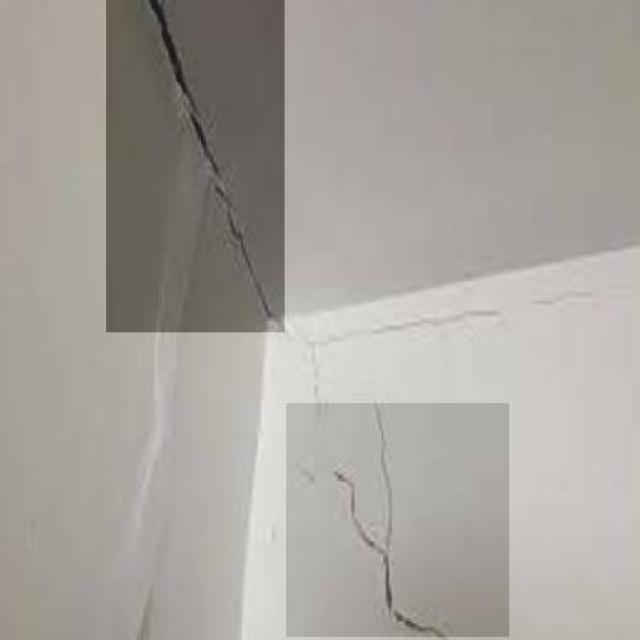Crack: (297, 401, 499, 640), (126, 3, 278, 305), (290, 290, 640, 366)
